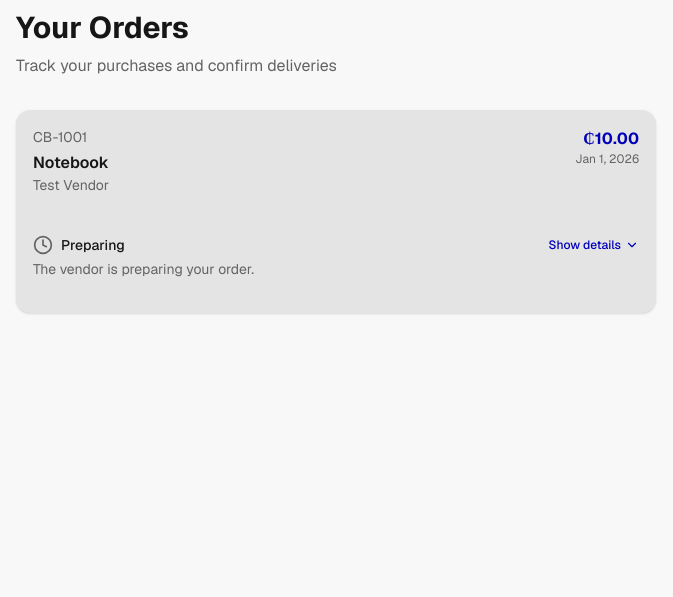
Test: OrdersPage cancellation › does not offer cancellation once the order is preparing
Click the heading "Notebook": (71, 162) [33,152,109,173]
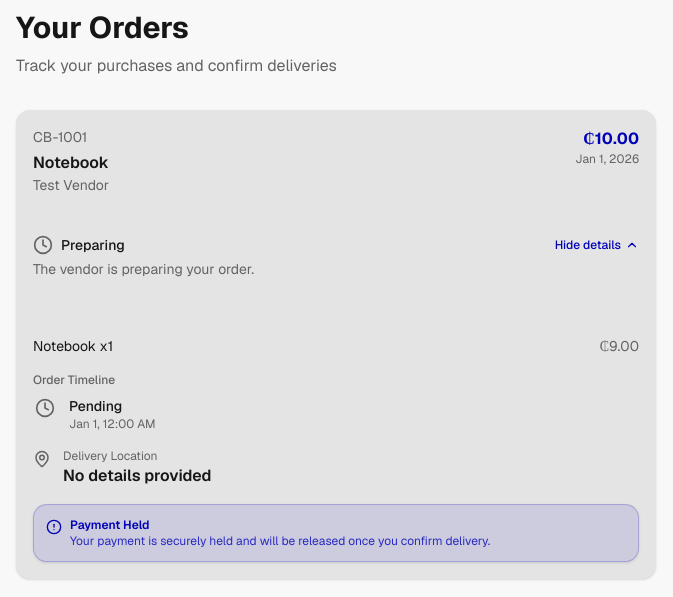
Now the text "Payment Held" is shown, box [70,517,150,533]
